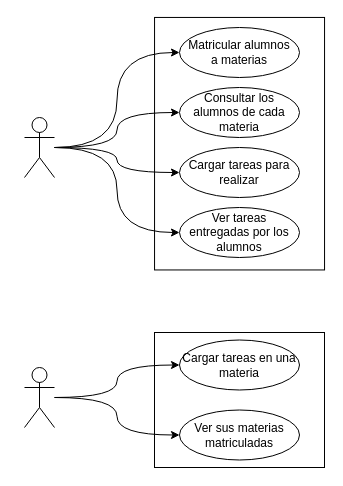
Image size: 343x486. Some labels were removed from this diagram. Here are the shapes that lost their labels. From the top down, the box of each, then its label:
(24, 116, 54, 178): Profesor
(24, 366, 54, 428): Alumno
